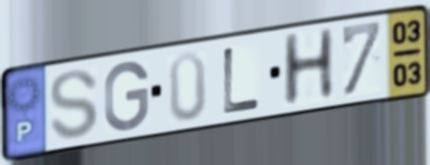0: (166, 49, 210, 124)
7: (339, 18, 383, 100)
G: (102, 58, 152, 134)
H: (280, 25, 338, 111)
L: (221, 44, 264, 117)
S: (47, 68, 101, 143)
